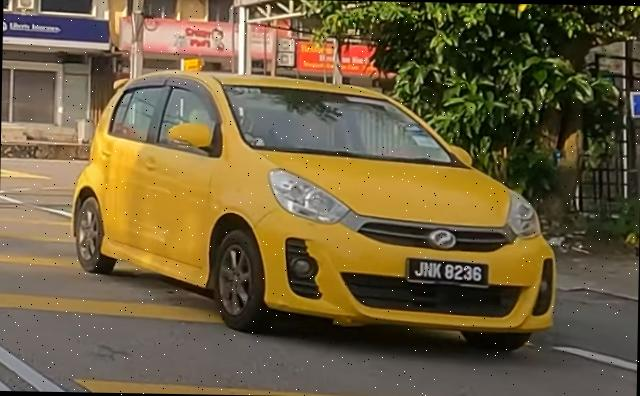License_Plate: (405, 258, 490, 288)
car: (69, 68, 561, 352)
